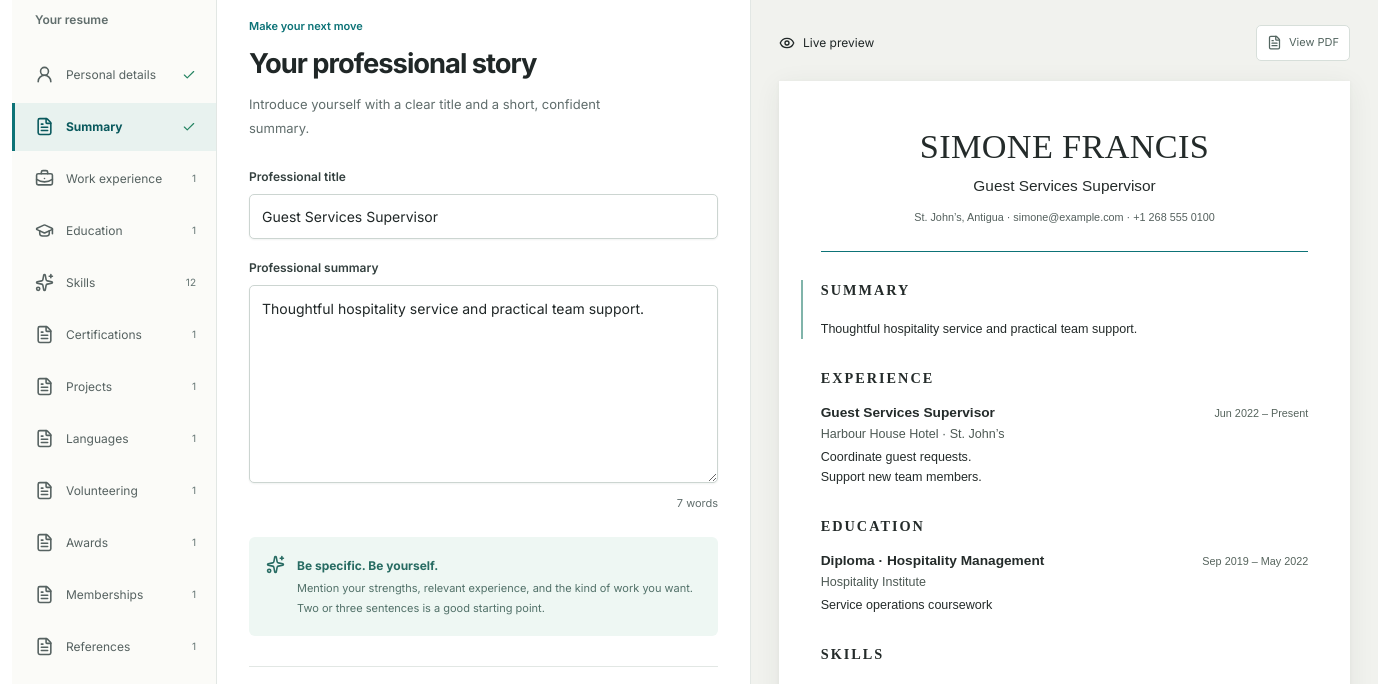
Test: premium resume workspace › keeps unsaved edits when navigating between sections
(page scrolled)
Step 1. Replace the text in the text box labelled "Professional summary" with "Keep this draft" → (484, 384), box [249,285,718,483]
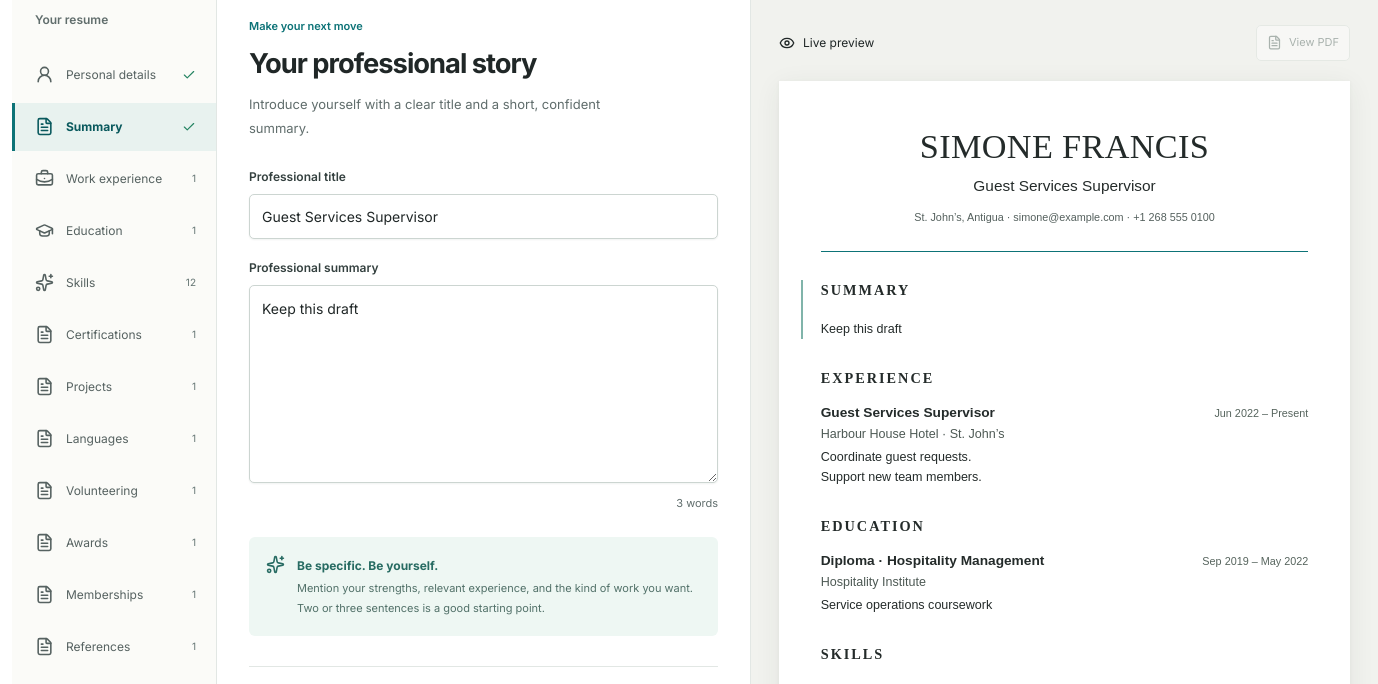
Step 2. Click the button "Work experience 1" → (114, 179), box [12,155,216,203]
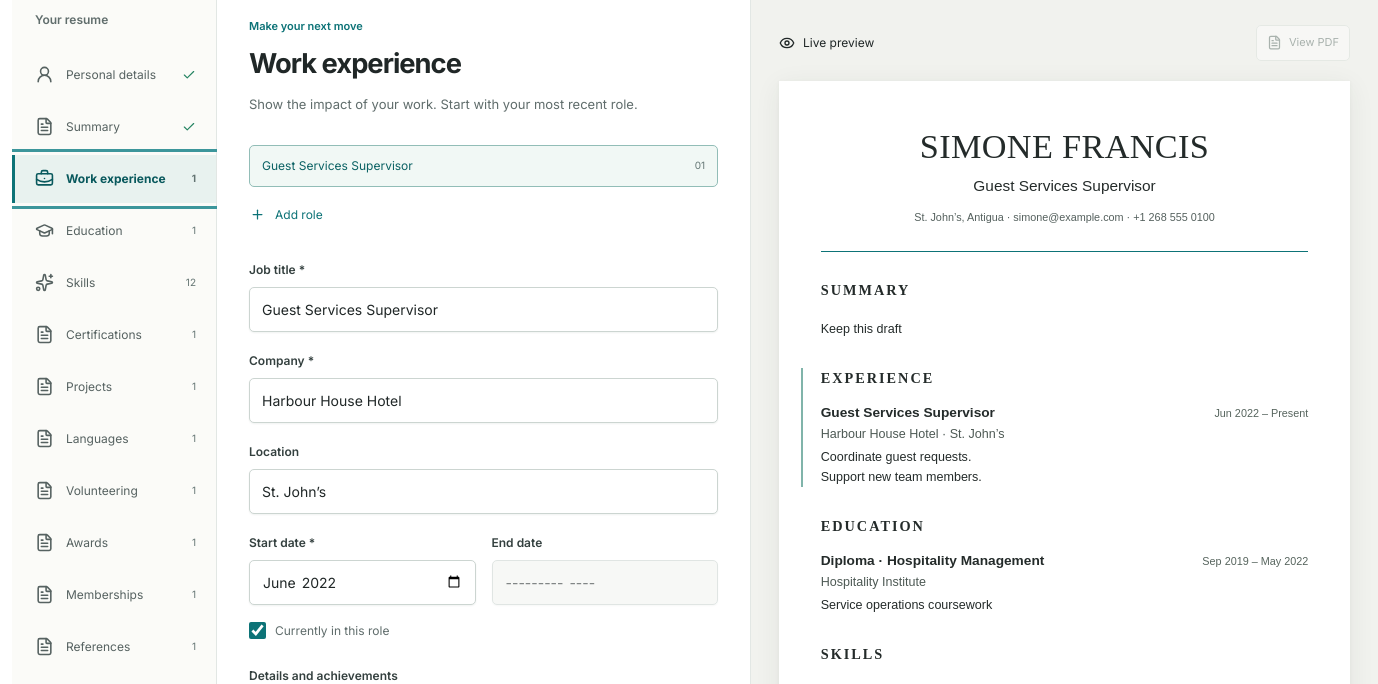
Step 3. Click the button "Summary" → (114, 127), box [12,103,216,151]
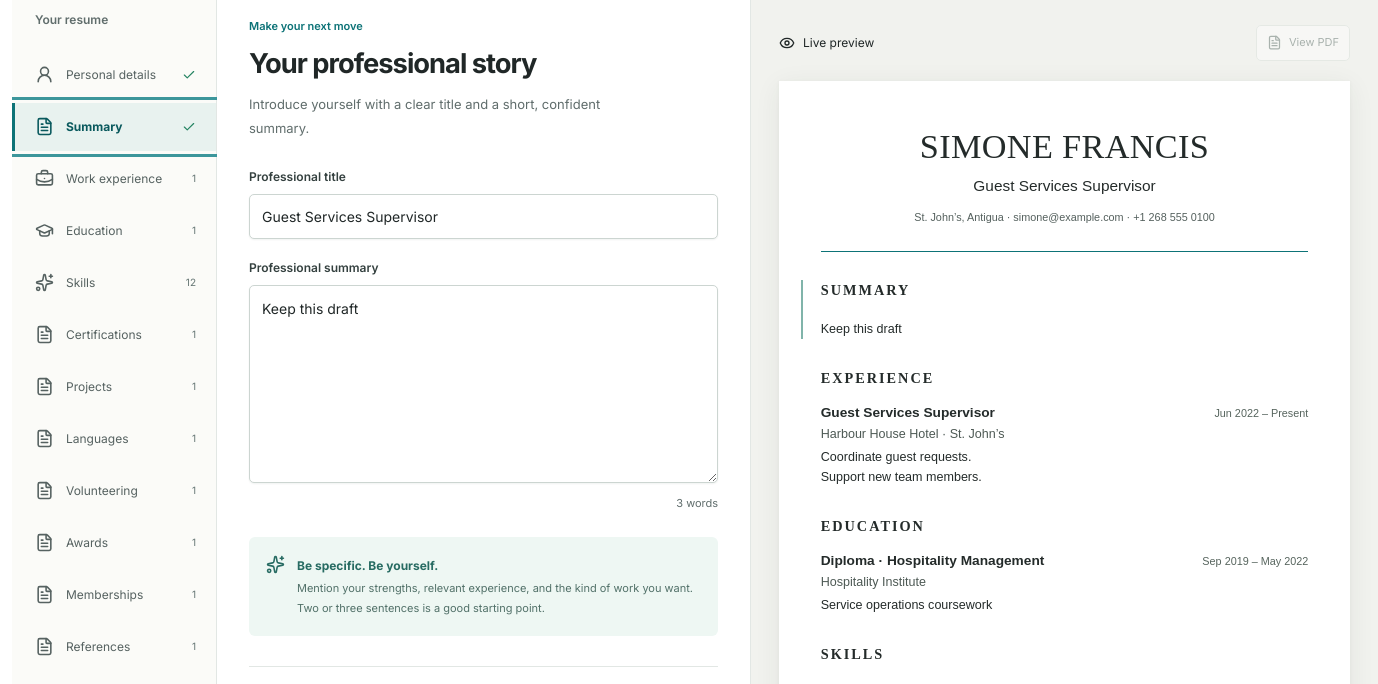
Result: the text box labelled "Professional summary" holds "Keep this draft" at [249,285,718,483]
